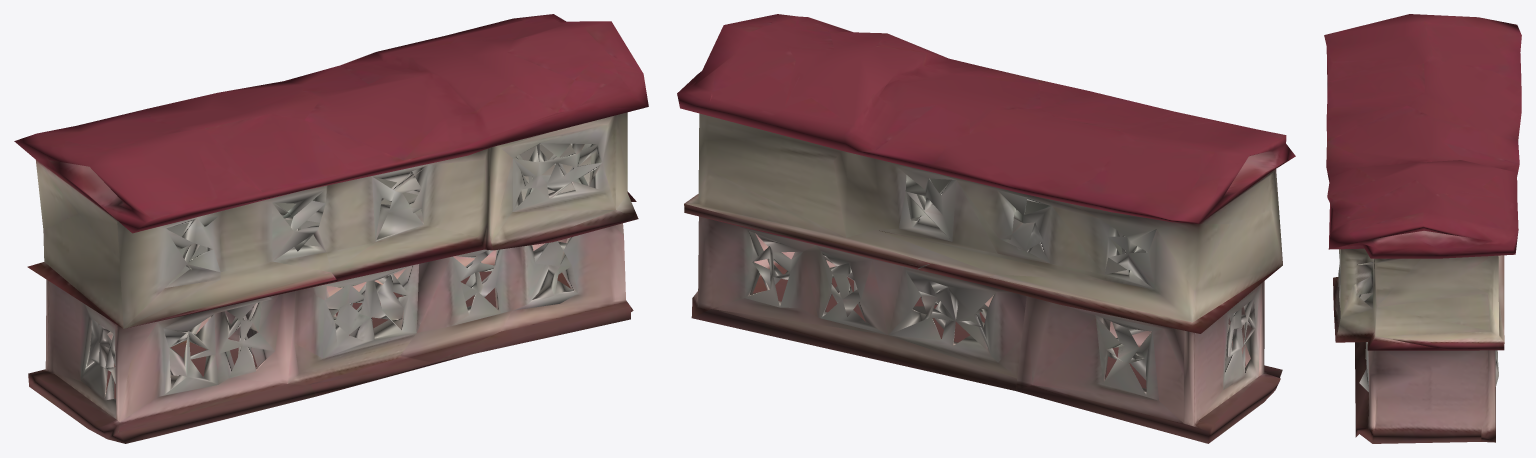
Rendered from yali.glb.
The picture shows the model from 3 angles, left to right: view 1: azimuth 30°, elevation 25°; view 2: azimuth 150°, elevation 25°; view 3: azimuth 270°, elevation 25°; orthographic projection. The views are drawn at different scales.
Visible parts, largest first — view 1: tripo_node_92527da0-0c29-49fd-b7b9-ba8d8ef92adf; view 2: tripo_node_92527da0-0c29-49fd-b7b9-ba8d8ef92adf; view 3: tripo_node_92527da0-0c29-49fd-b7b9-ba8d8ef92adf.
Boxes of the visible parts, box(x1,y1,x2,y2) form: tripo_node_92527da0-0c29-49fd-b7b9-ba8d8ef92adf: box(14, 14, 648, 443); tripo_node_92527da0-0c29-49fd-b7b9-ba8d8ef92adf: box(677, 14, 1295, 443); tripo_node_92527da0-0c29-49fd-b7b9-ba8d8ef92adf: box(1324, 14, 1521, 443).
Bounding box in the file's own units: 16 × 7.5 × 6.
1 material, 1 textured.
